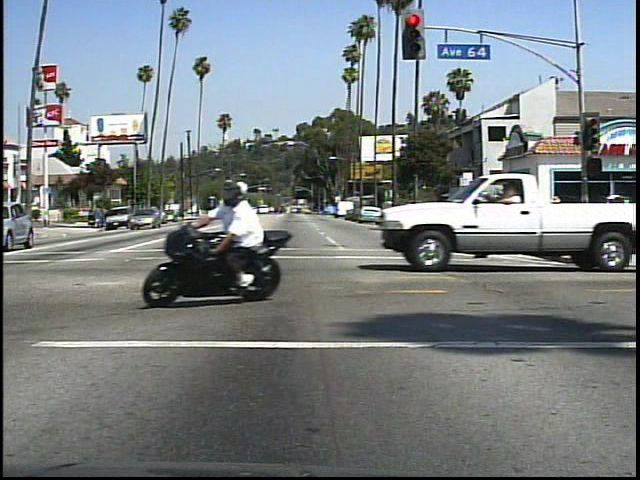person: (206, 177, 281, 297), (543, 192, 571, 245)
